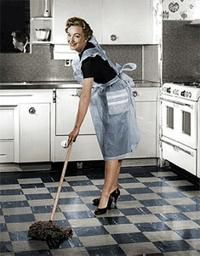person: (66, 18, 141, 214)
